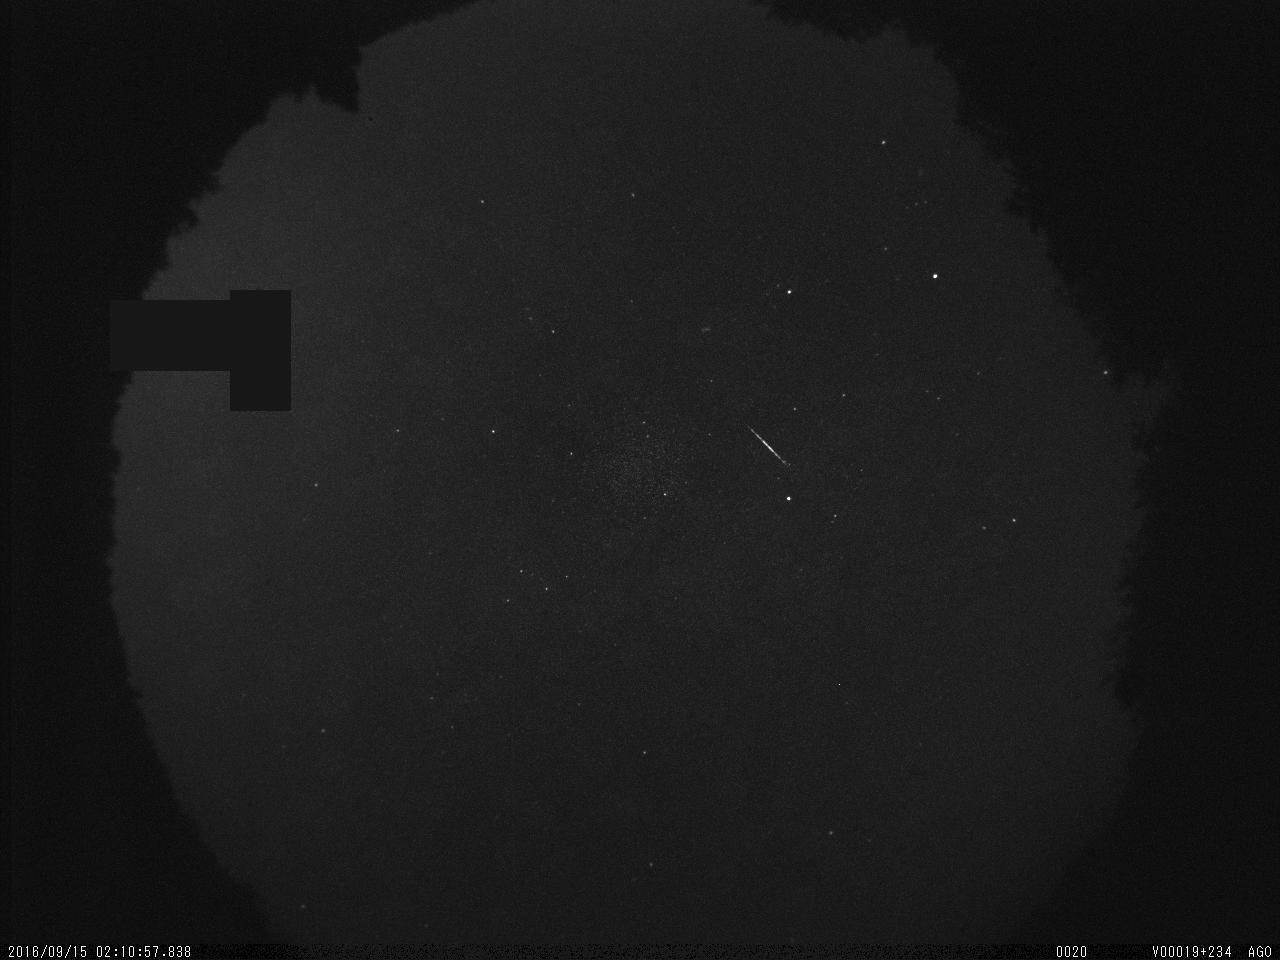meteor: (722, 414, 810, 482)
